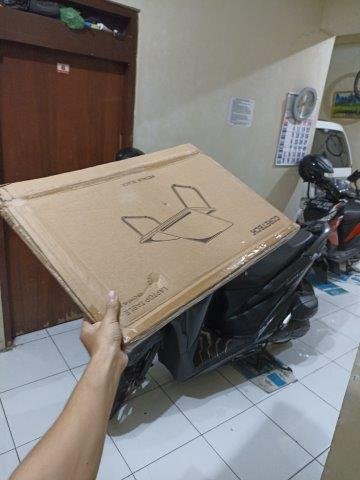kardus: (1, 144, 298, 347)
